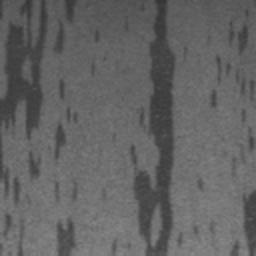Red iron sheet: (0, 0, 101, 256), (128, 0, 204, 255), (211, 18, 255, 108), (232, 191, 256, 256), (248, 137, 255, 150)
